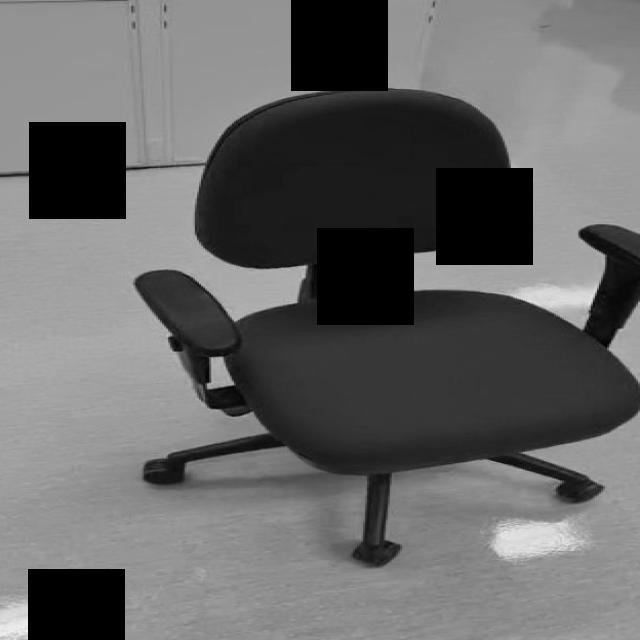chair: (133, 87, 640, 566)
